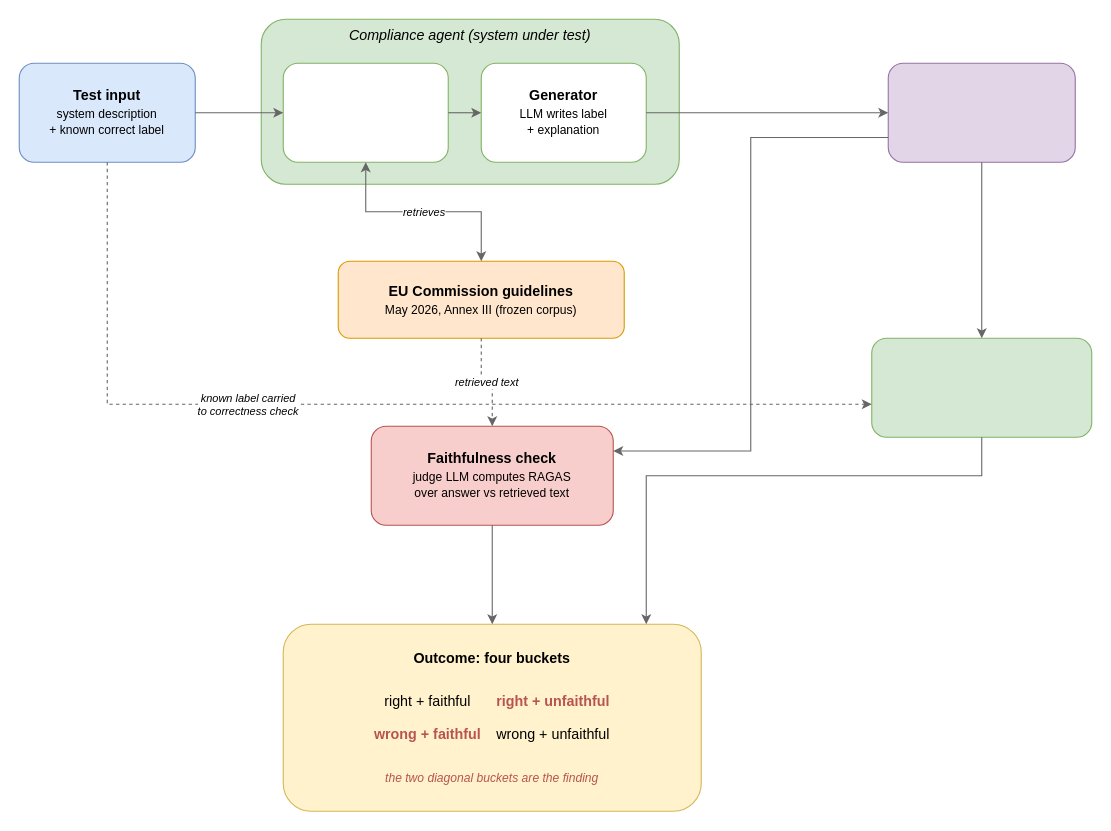
Image size: 1111x831. Some labels were removed from this diagram. The centre of each missing label's shape, as x and y in pixels:
"Agent answer predicted label + grounded explanation" belongs at point 981,112.
"Correctness check predicted label vs frozen label (lookup)" belongs at point 981,387.
"Retriever embedding + vector search" belongs at point 365,112.
